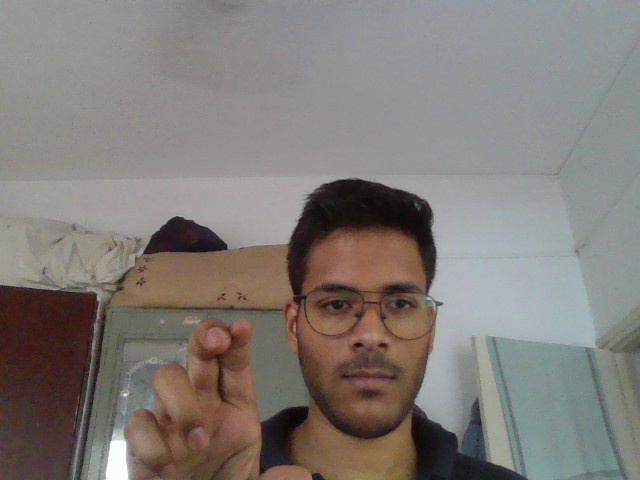no: (105, 305, 325, 480)
